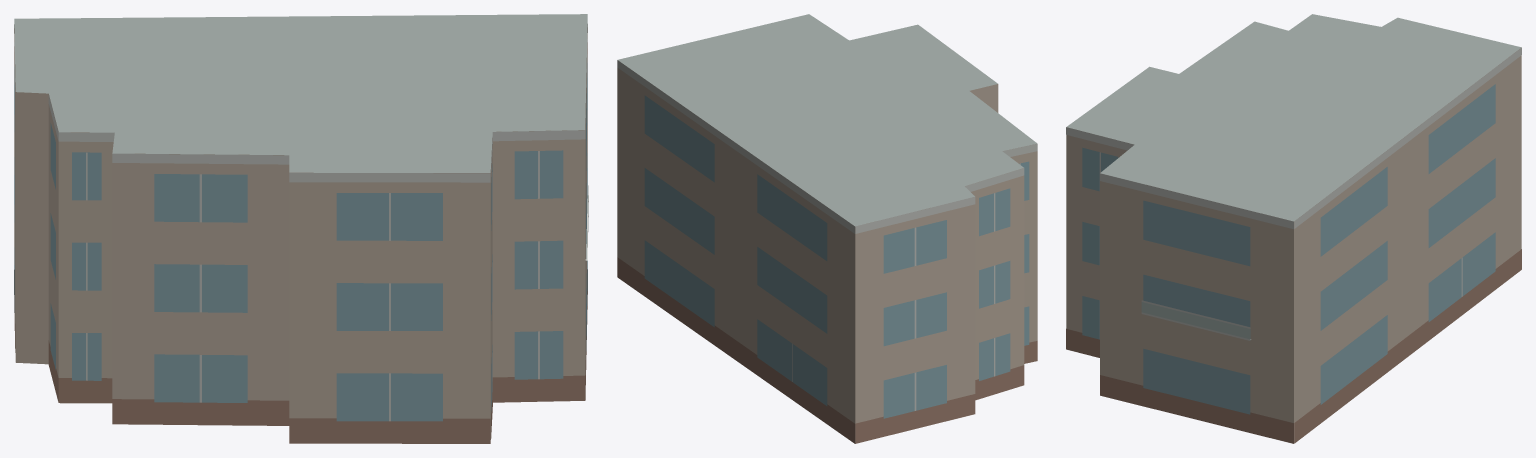
File: survey-upis-33047538.glb
3 views of the same model, side by side, from view 1: azimuth 30°, elevation 25°; view 2: azimuth 150°, elevation 25°; view 3: azimuth 270°, elevation 25° (orthographic). The views are drawn at different scales.
Visible parts, largest first — view 1: survey-upis-33047538.tmp; view 2: survey-upis-33047538.tmp; view 3: survey-upis-33047538.tmp.
Part boxes in pixels (x1,y1,x2,y2): survey-upis-33047538.tmp: (14,14,588,443); survey-upis-33047538.tmp: (617,14,1037,443); survey-upis-33047538.tmp: (1066,14,1521,443).
Size of the model in its own units: 14.02 by 7 by 13.01.
